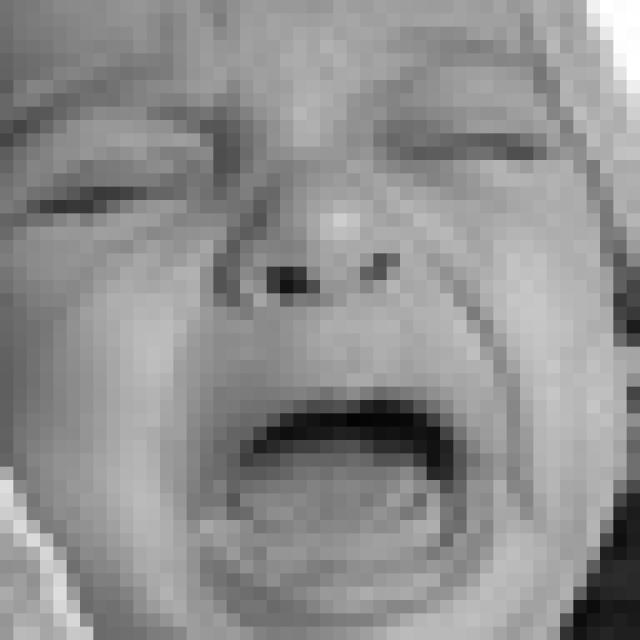sad: (21, 38, 541, 629)
